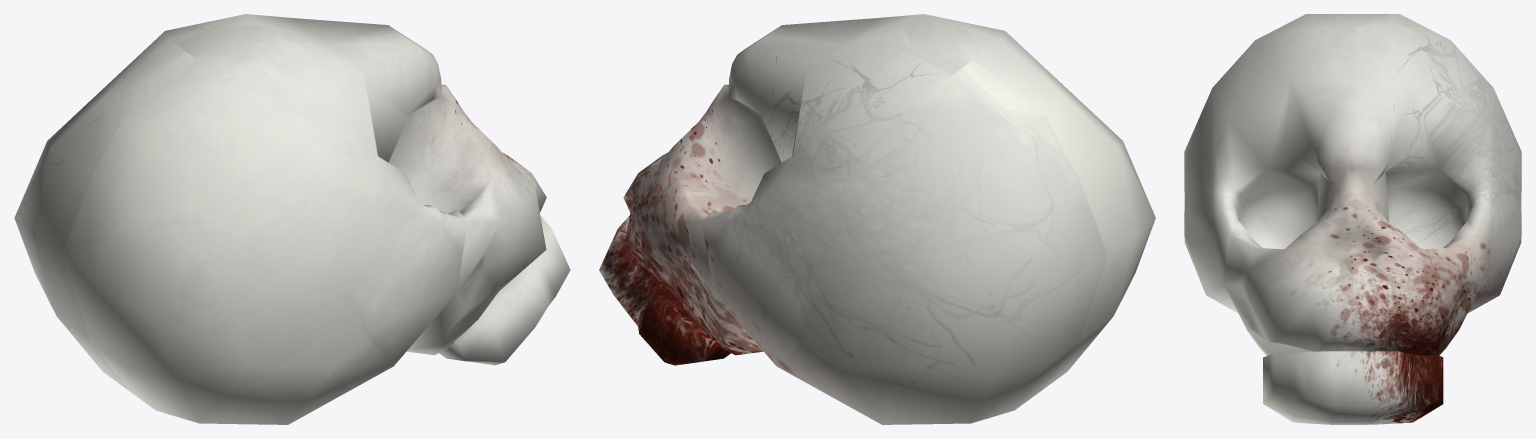
The model's file is MOD_Misc_Skull01.fbx.
3 renders of one model, left to right at view 1: azimuth 30°, elevation 25°; view 2: azimuth 150°, elevation 25°; view 3: azimuth 270°, elevation 25°, orthographic. The views are drawn at different scales.
Visible parts, largest first — view 1: Skull; view 2: Skull; view 3: Skull.
Boxes of the visible parts, <box> form: Skull: <box>14,14,570,424</box>; Skull: <box>599,14,1155,424</box>; Skull: <box>1184,14,1521,424</box>.
Bounding box in the file's own units: 1.55 × 1.1 × 1.07.
